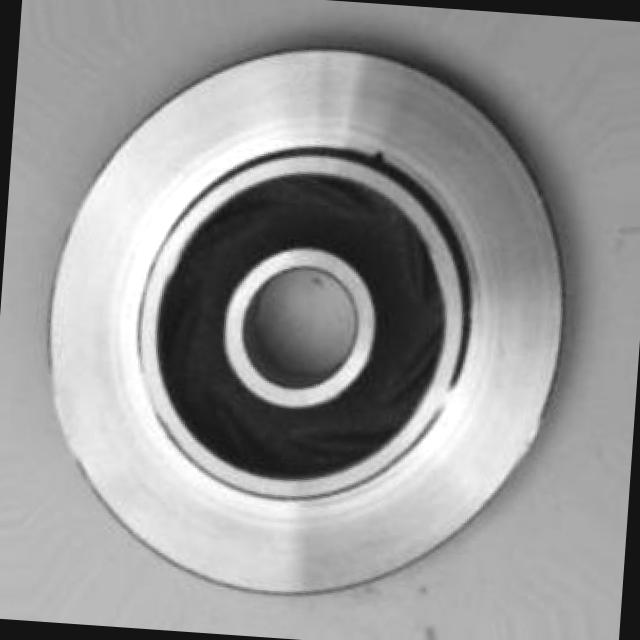Defect: (365, 145, 393, 169)
